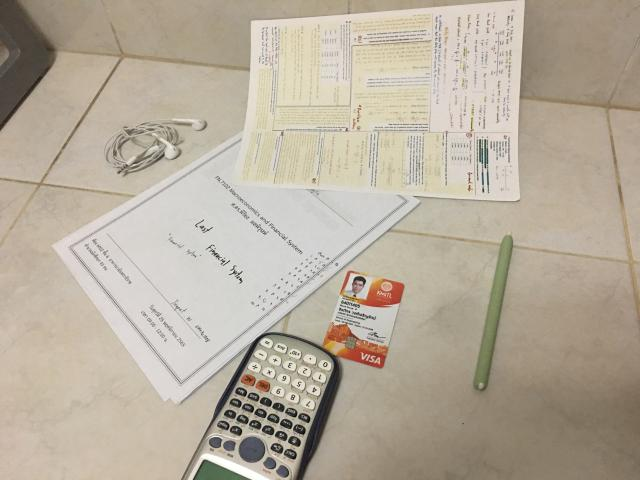paper: (54, 103, 419, 402), (234, 1, 524, 201)
wire: (104, 119, 206, 174)
